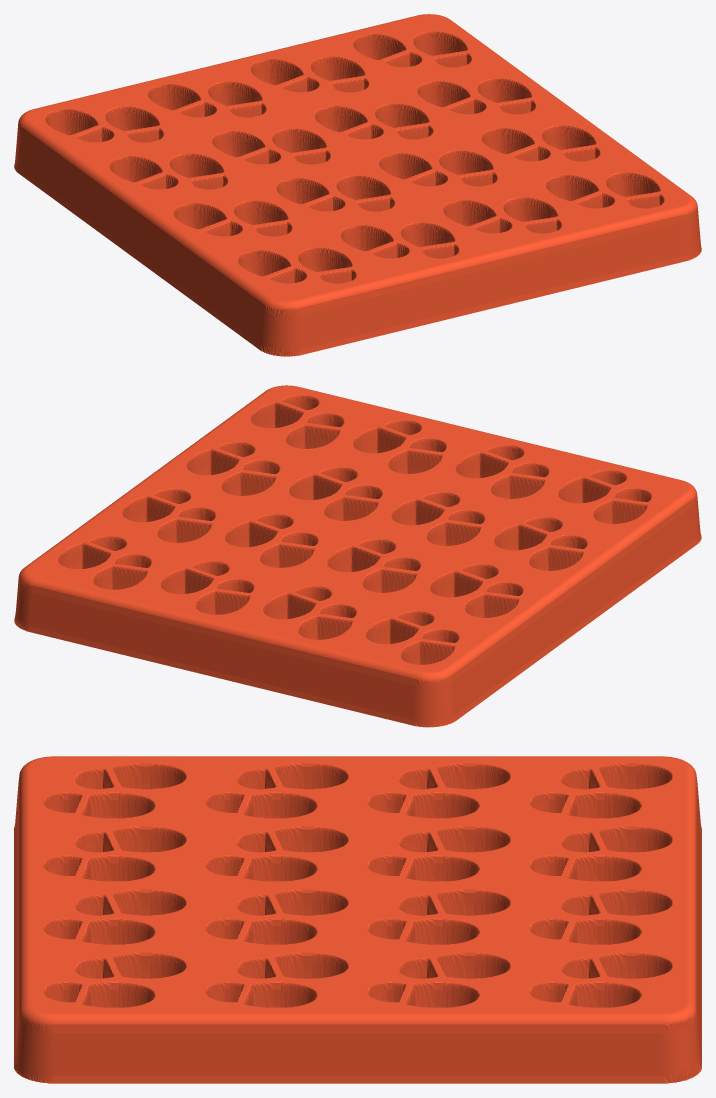
The model's file is mold.glb.
3 renders of one model, top to bottom at view 1: azimuth 30°, elevation 25°; view 2: azimuth 150°, elevation 25°; view 3: azimuth 270°, elevation 25°, orthographic. The views are drawn at different scales.
Visible parts, largest first — view 1: geometry_0; view 2: geometry_0; view 3: geometry_0.
Boxes of the visible parts, box(x1,y1,x2,y2) form: geometry_0: box(14, 14, 701, 356); geometry_0: box(14, 385, 701, 727); geometry_0: box(14, 756, 701, 1083).
Size of the model in its own units: 0.1454 by 0.0159 by 0.1569.
